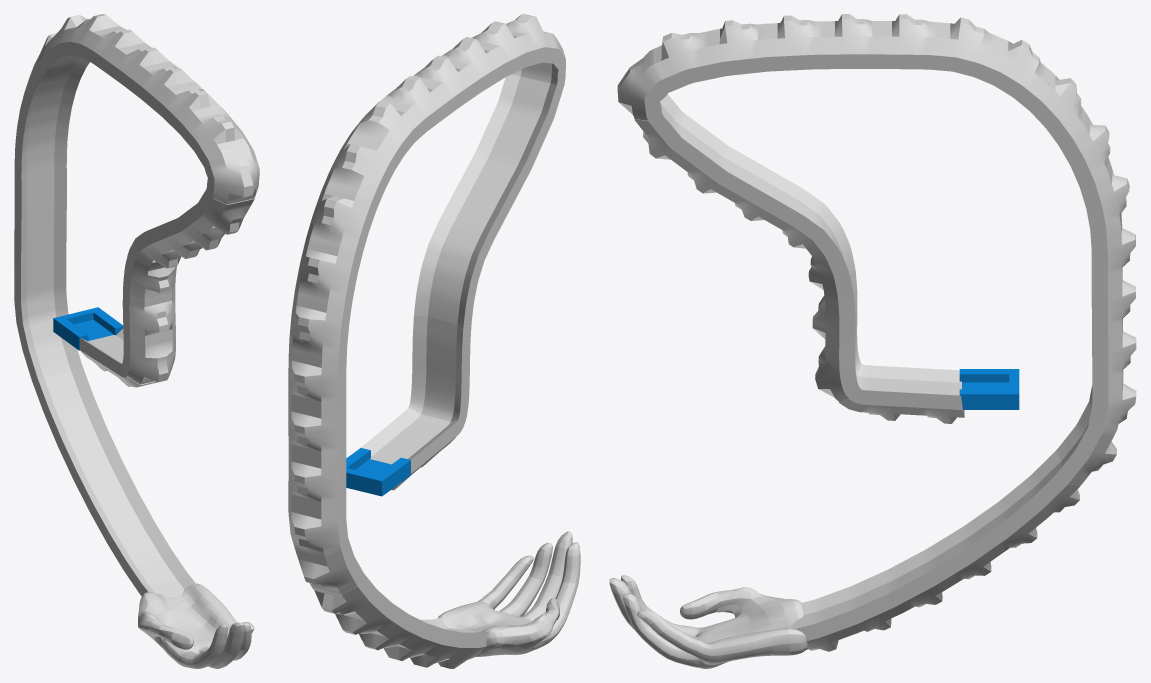
Rendered from level design 3.2.fbx.
3 renders of one model, left to right at view 1: azimuth 30°, elevation 25°; view 2: azimuth 150°, elevation 25°; view 3: azimuth 270°, elevation 25°, orthographic. The views are drawn at different scales.
Visible parts, largest first — view 1: Plane, Plane.002, Cube.008; view 2: Plane, Plane.002, Cube.008; view 3: Plane, Plane.002, Cube.008.
Boxes of the visible parts, x1,y1,x2,y2 form: Plane: (14,14,259,601); Plane.002: (138,583,254,668); Cube.008: (53,307,123,350); Plane: (288,14,565,668); Plane.002: (438,531,580,656); Cube.008: (346,448,410,496); Plane: (617,14,1136,651); Plane.002: (609,575,808,668); Cube.008: (959,369,1019,409).
Size of the model in its own units: 3.84 by 24 by 17.68.
